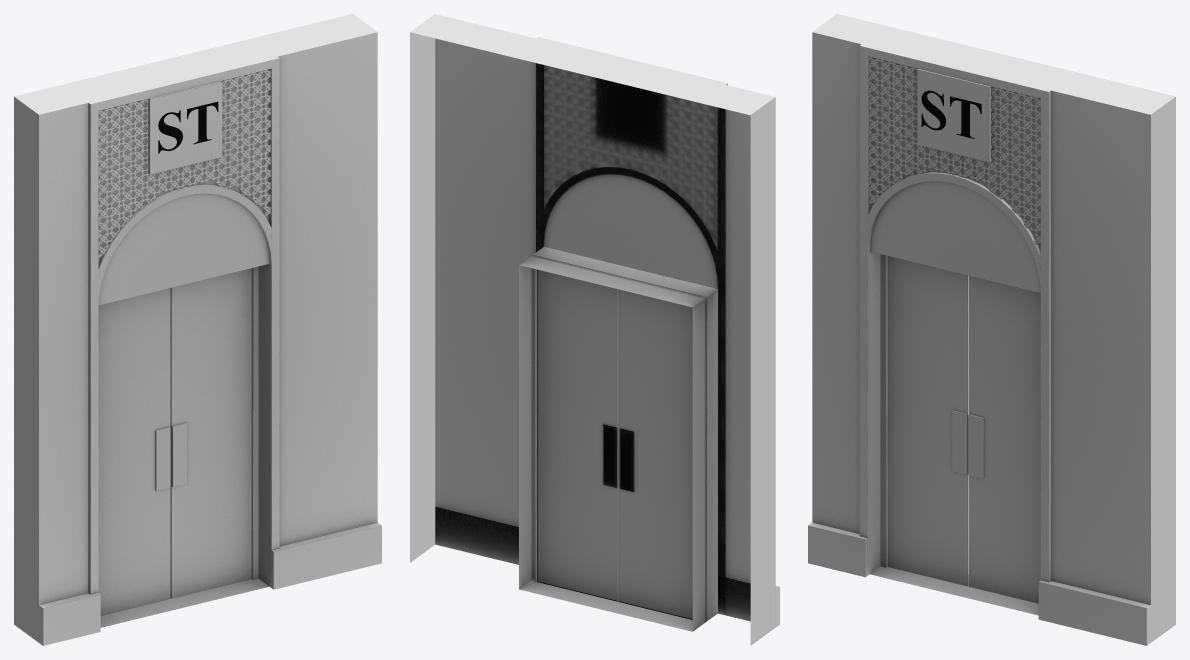
The model's file is door_4.glb.
3 views of the same model, side by side, from view 1: azimuth 30°, elevation 25°; view 2: azimuth 150°, elevation 25°; view 3: azimuth 330°, elevation 25° (orthographic).
Visible parts, largest first — view 1: door_4, door_4_img; view 2: door_4; view 3: door_4, door_4_img.
Boxes of the visible parts, left/top/right/bottom form: door_4: left=14, top=14, right=381, bottom=645; door_4_img: left=158, top=101, right=218, bottom=153; door_4: left=410, top=14, right=779, bottom=645; door_4: left=808, top=14, right=1175, bottom=645; door_4_img: left=921, top=90, right=981, bottom=138.
Size of the model in its own units: 2.35 by 3.5 by 0.3602.
Materials: 2 (2 with a texture image).
